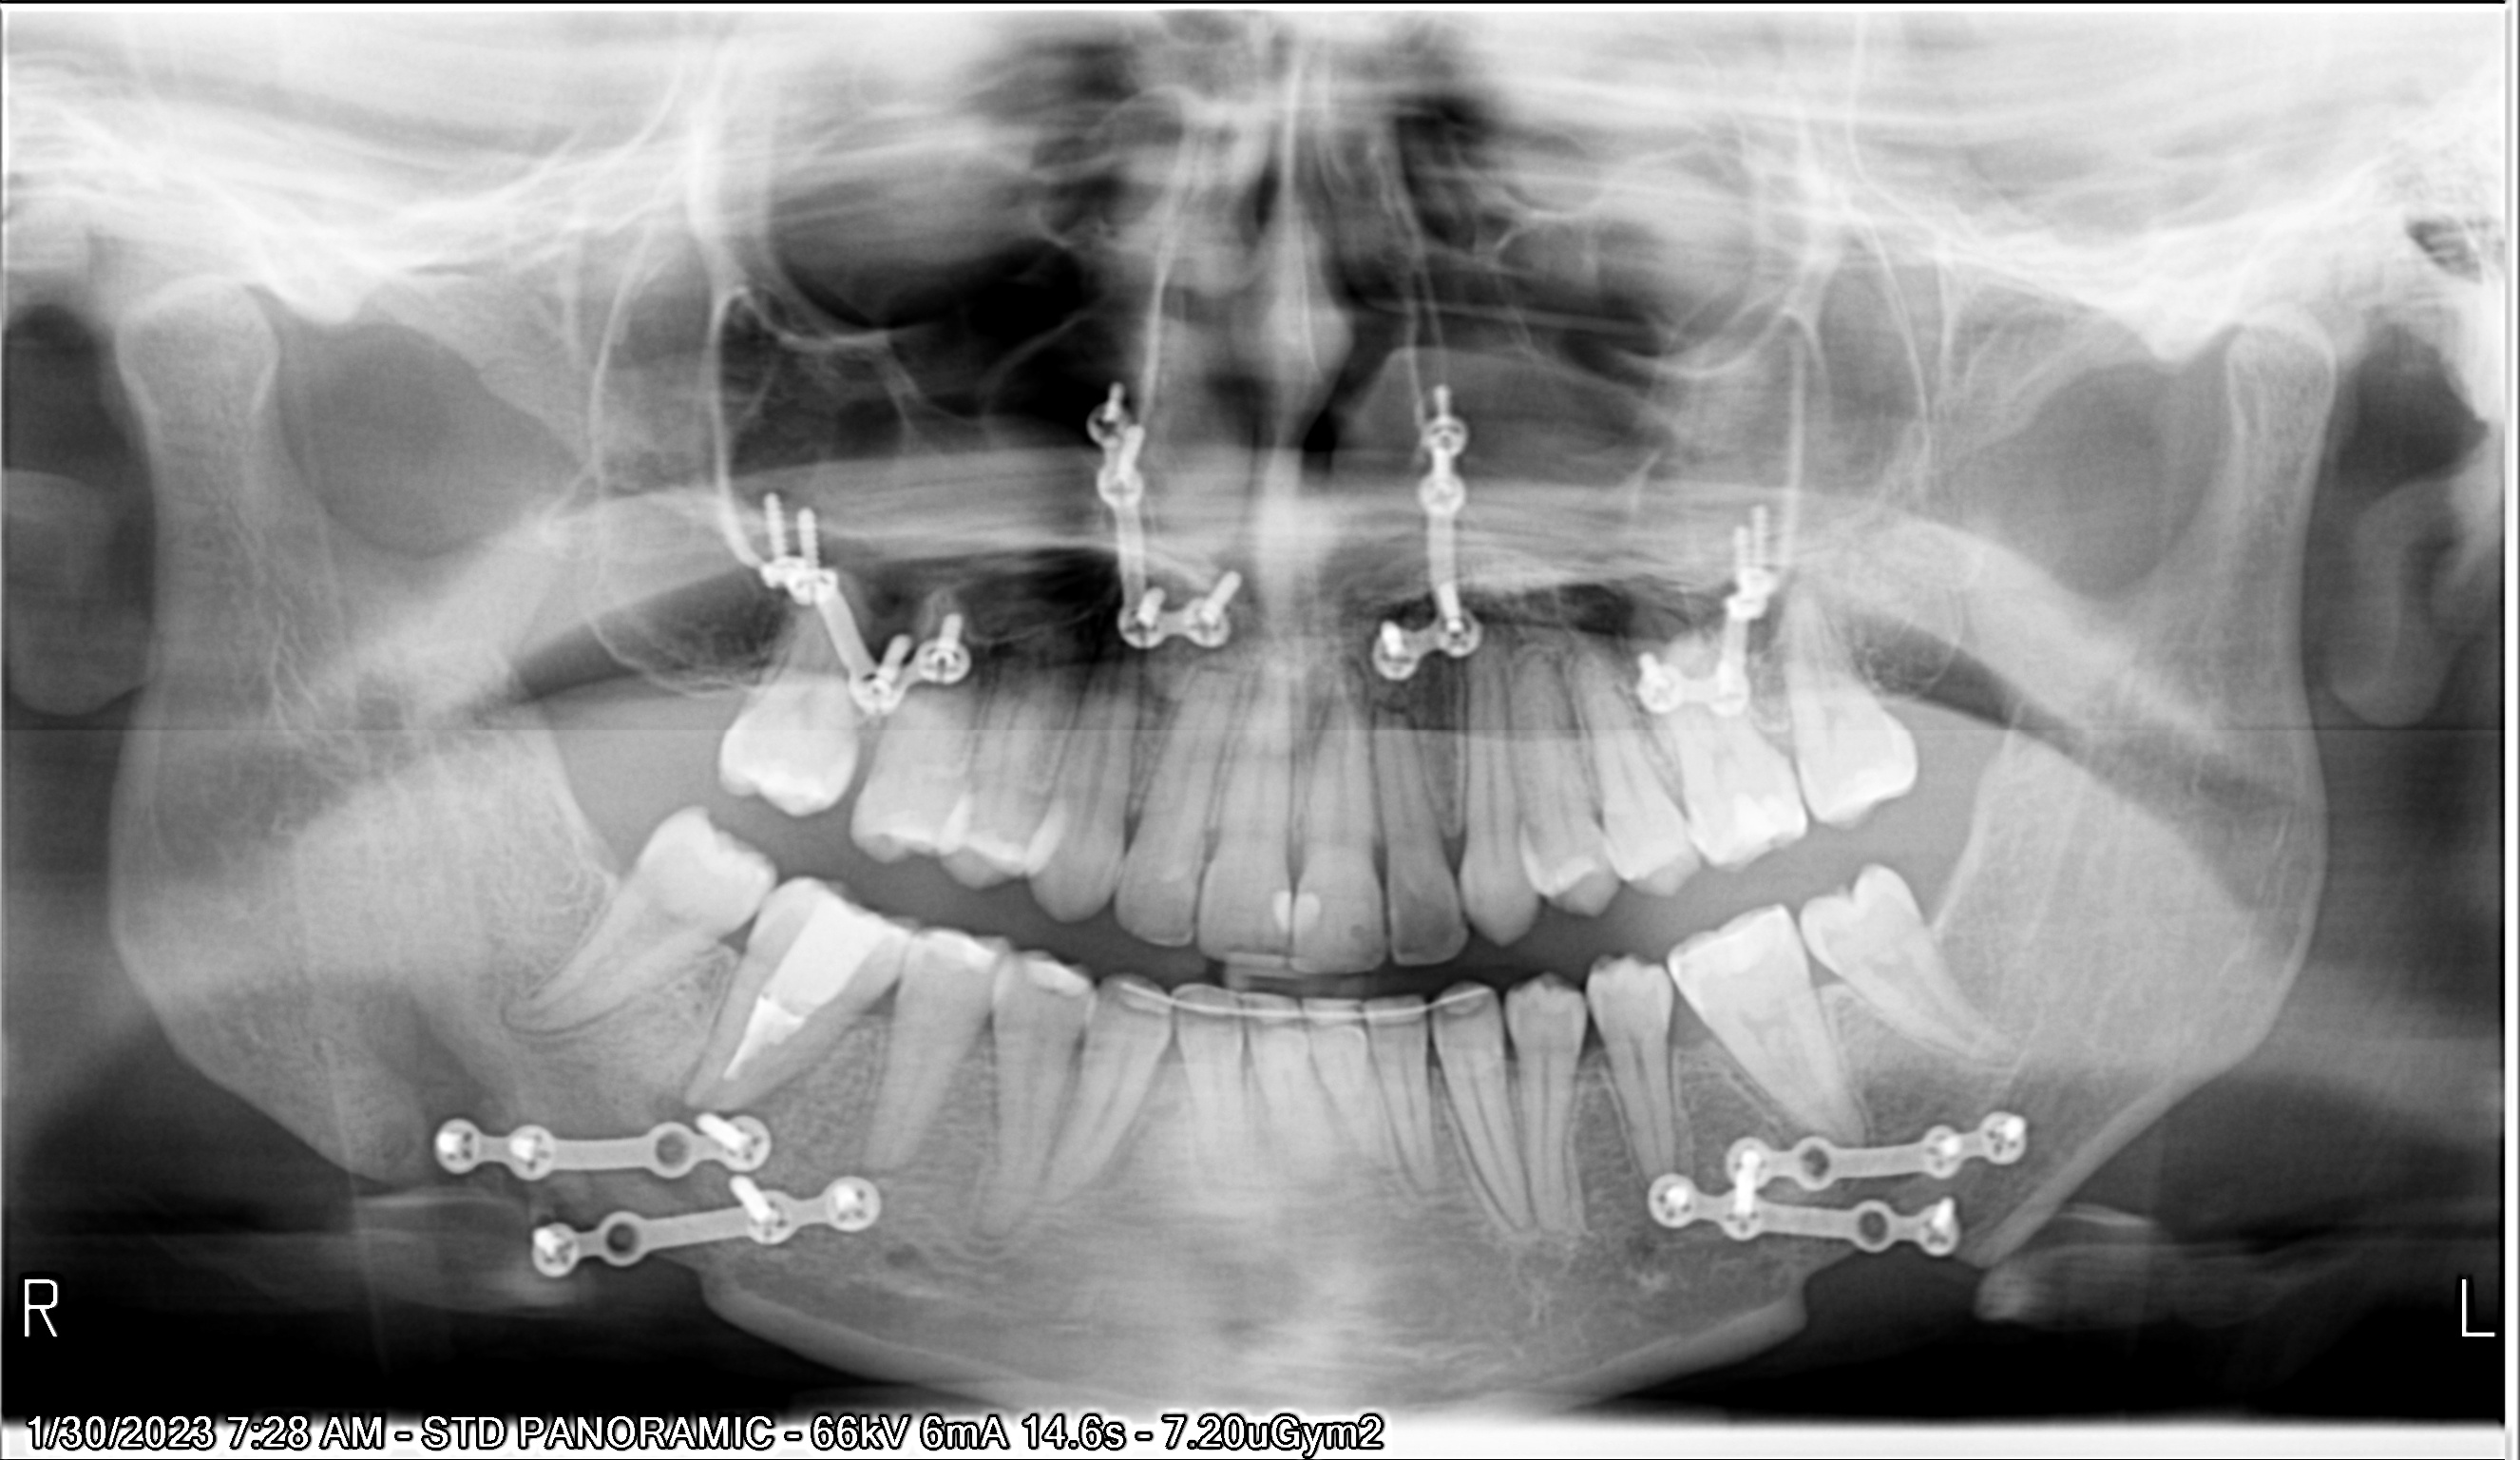APS: (1346, 674, 1433, 732)
END: (716, 991, 787, 1114)
OBT: (749, 892, 910, 1013), (1000, 939, 1112, 1019), (1702, 770, 1792, 866), (912, 921, 1007, 989), (1283, 867, 1341, 956), (1245, 871, 1309, 940), (1540, 829, 1598, 897), (1824, 749, 1888, 806)
ORD: (1101, 956, 1523, 1078)
SRD: (497, 1133, 924, 1316), (387, 1052, 823, 1215), (736, 473, 1000, 728), (1700, 1052, 2079, 1229), (1065, 362, 1263, 667), (1608, 1137, 1963, 1302), (1341, 370, 1497, 692), (1613, 473, 1811, 725)
